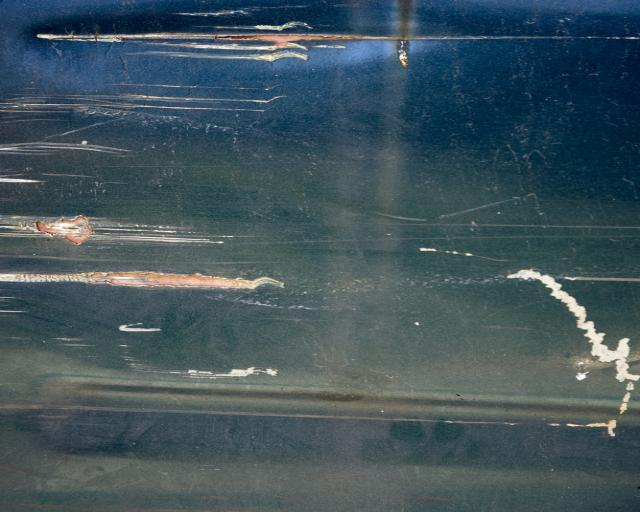scratch: (0, 0, 363, 384), (506, 258, 640, 438)
